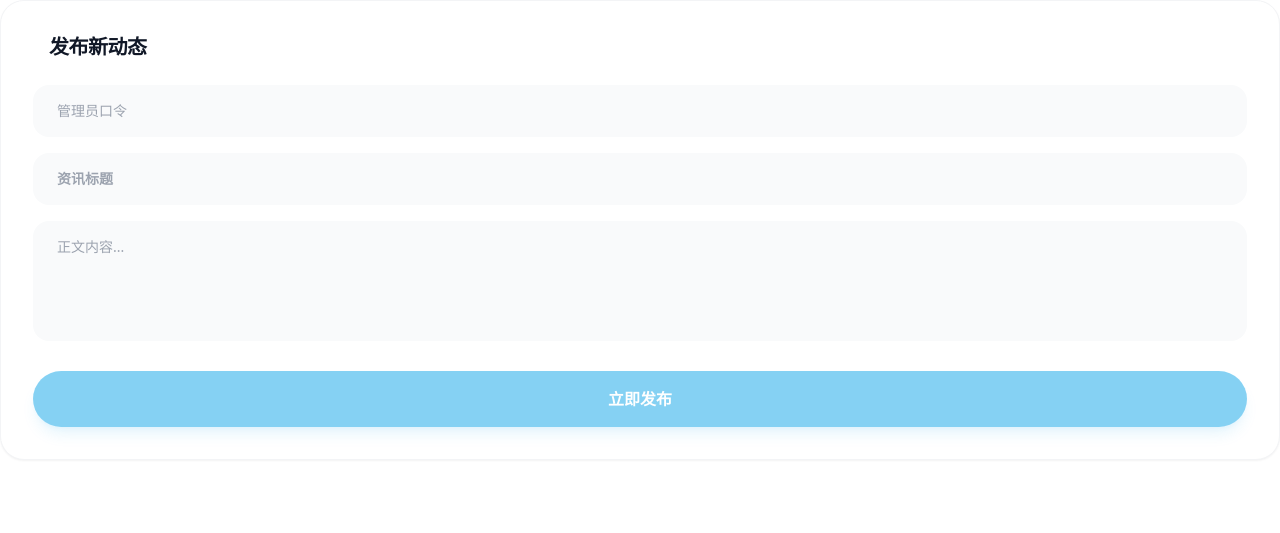
Test case: AdminForm › submits form successfully
This screenshot has width=1280, height=533.
Type "token" into the password field with placeholder "管理员口令" at (640, 111), box [33, 85, 1247, 137]
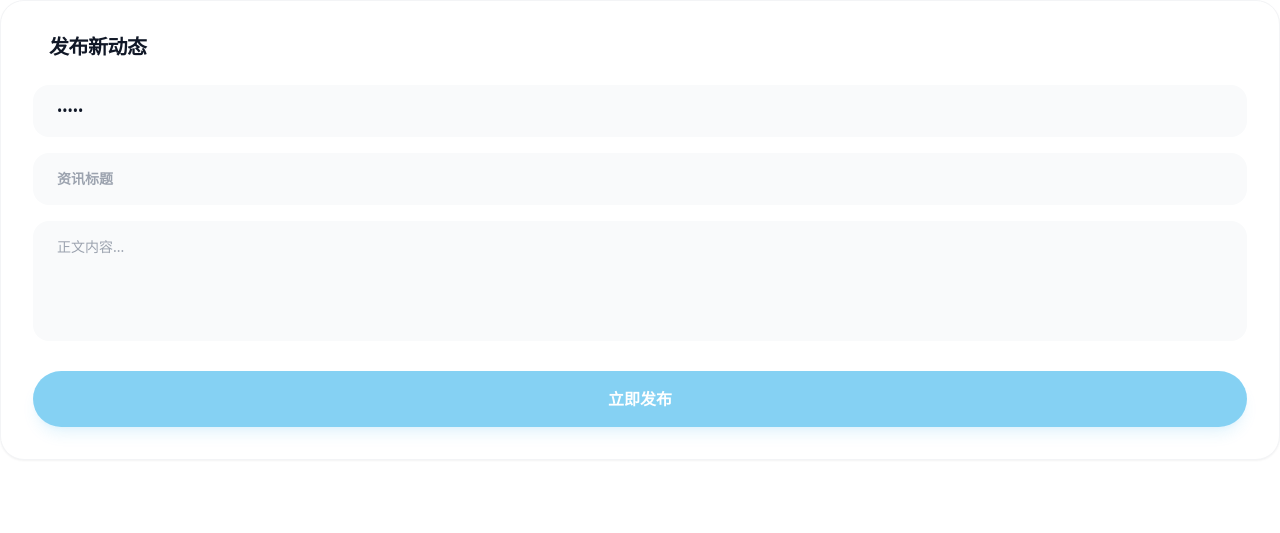
Type "title" into the field with placeholder "资讯标题" at (640, 179), box [33, 153, 1247, 205]
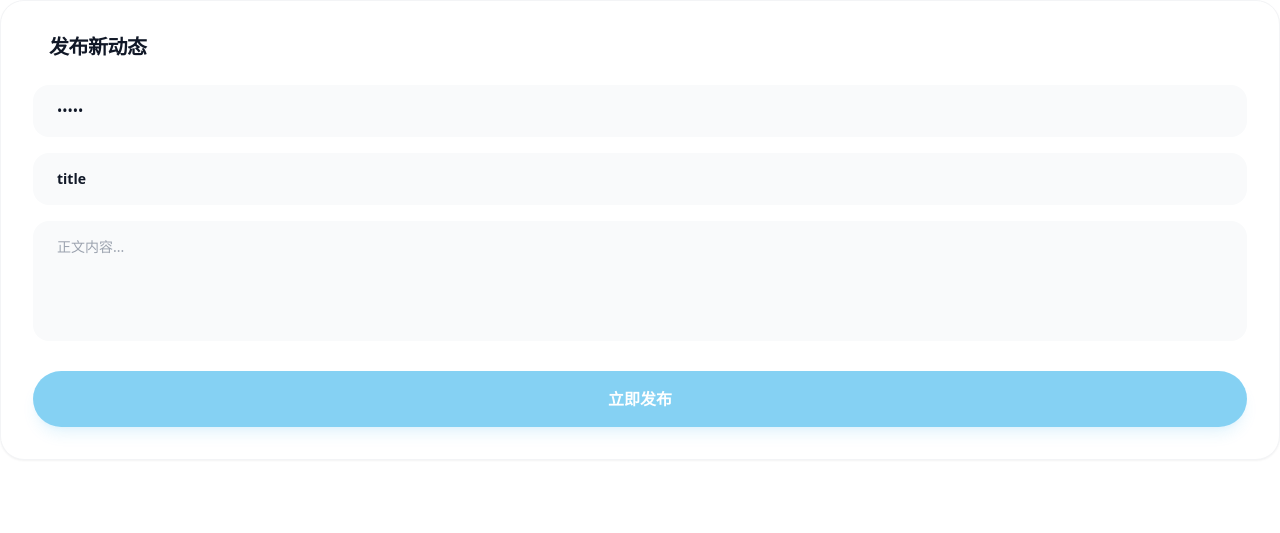
Type "content" into the text box with placeholder "正文内容..." at (640, 281), box [33, 221, 1247, 341]
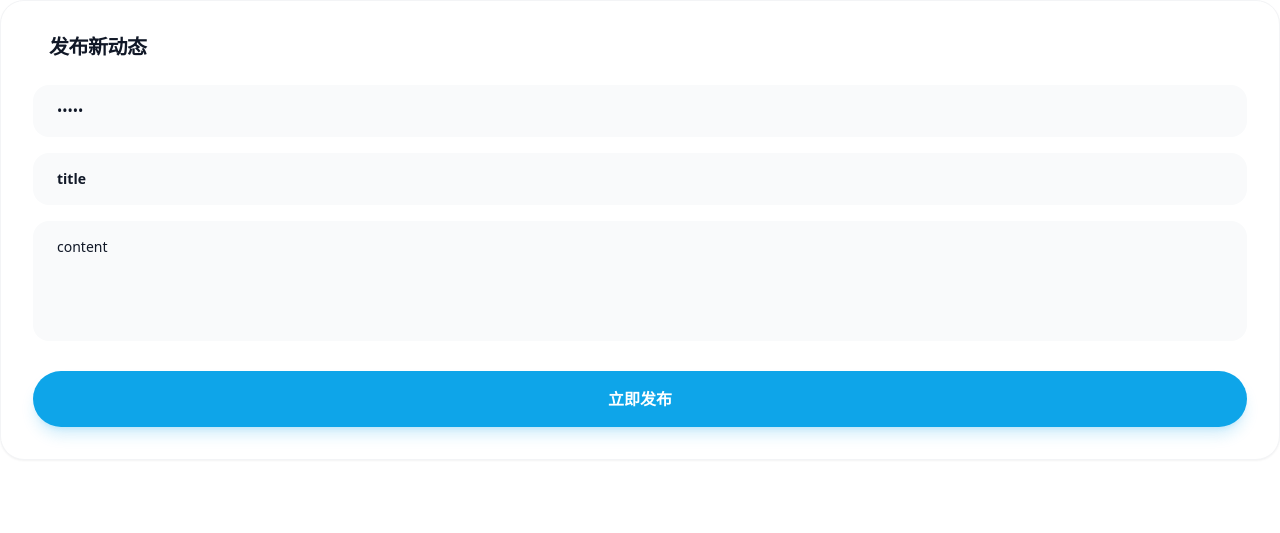
Click the button "立即发布" at (640, 399), box [33, 371, 1247, 427]
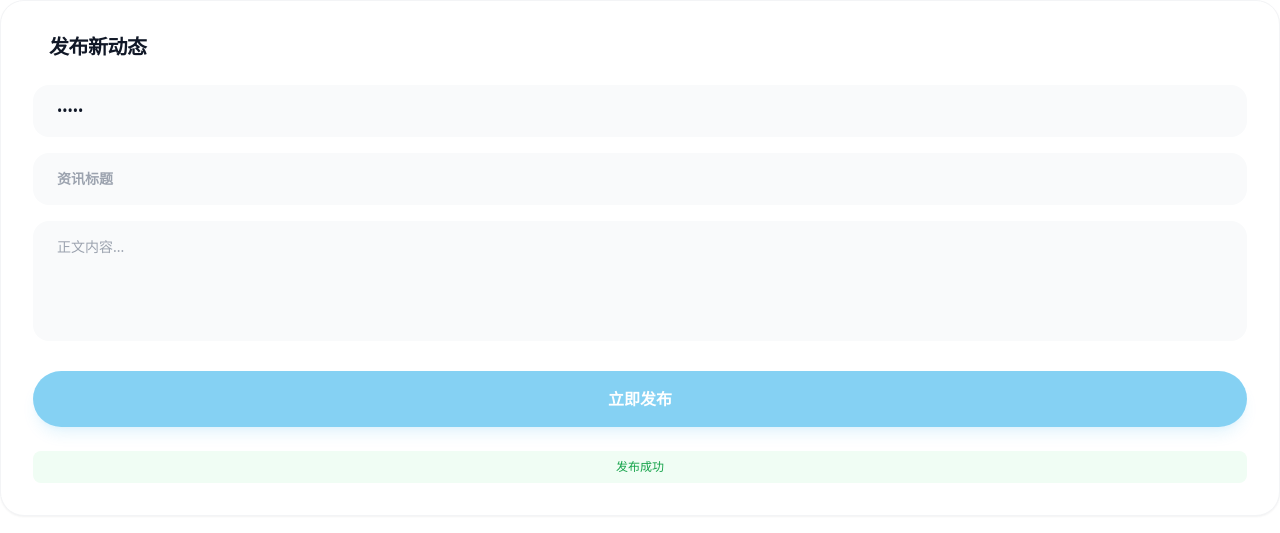
Expected: the text "发布成功" is shown, [33, 451, 1247, 483]
